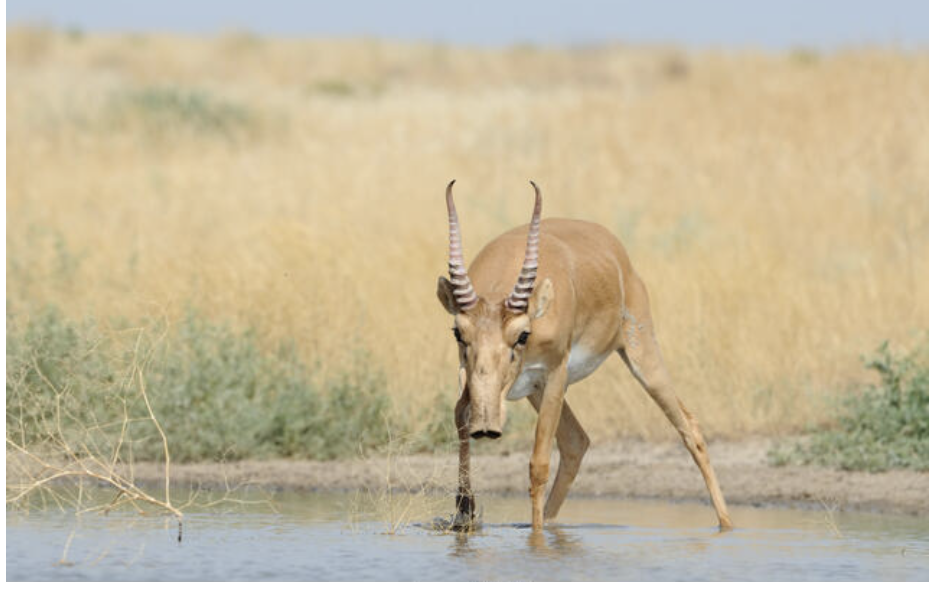saiga: (419, 174, 743, 533)
